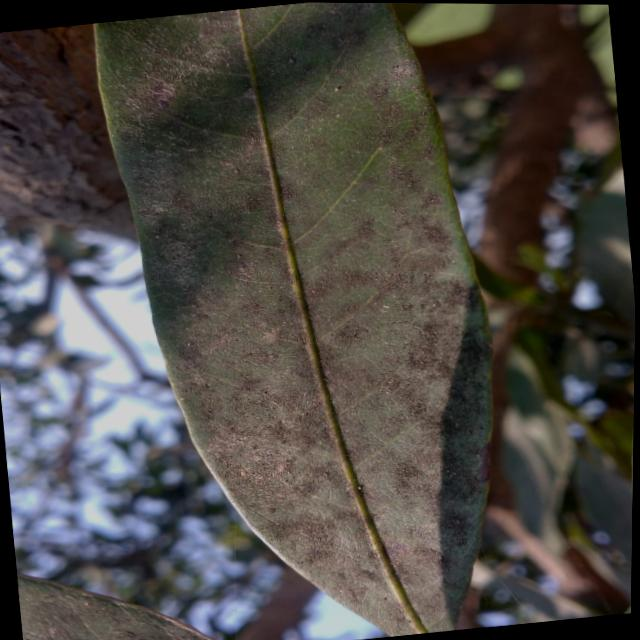Powdery Mildew: (140, 20, 239, 100)
black die: (319, 242, 423, 345), (293, 144, 387, 246), (272, 32, 360, 140), (388, 317, 465, 377), (225, 439, 298, 488), (353, 419, 422, 469), (275, 507, 338, 546), (252, 1, 296, 51), (180, 119, 248, 141)
